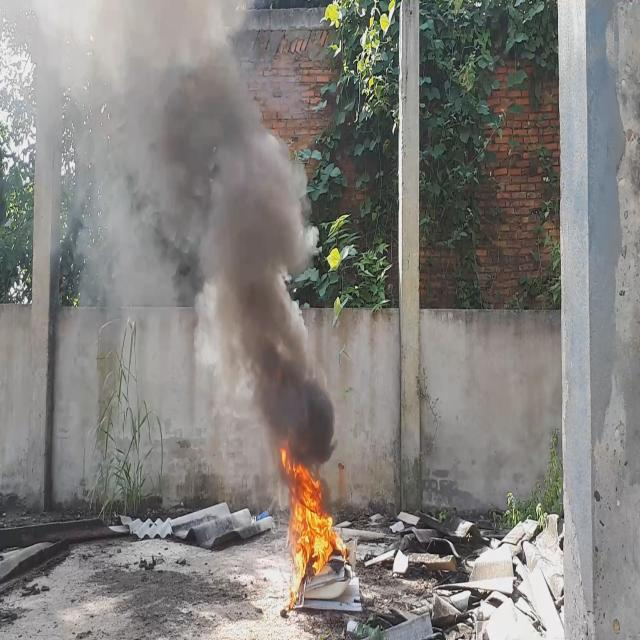Fire: (280, 439, 352, 608)
Smoke: (0, 0, 338, 480)
